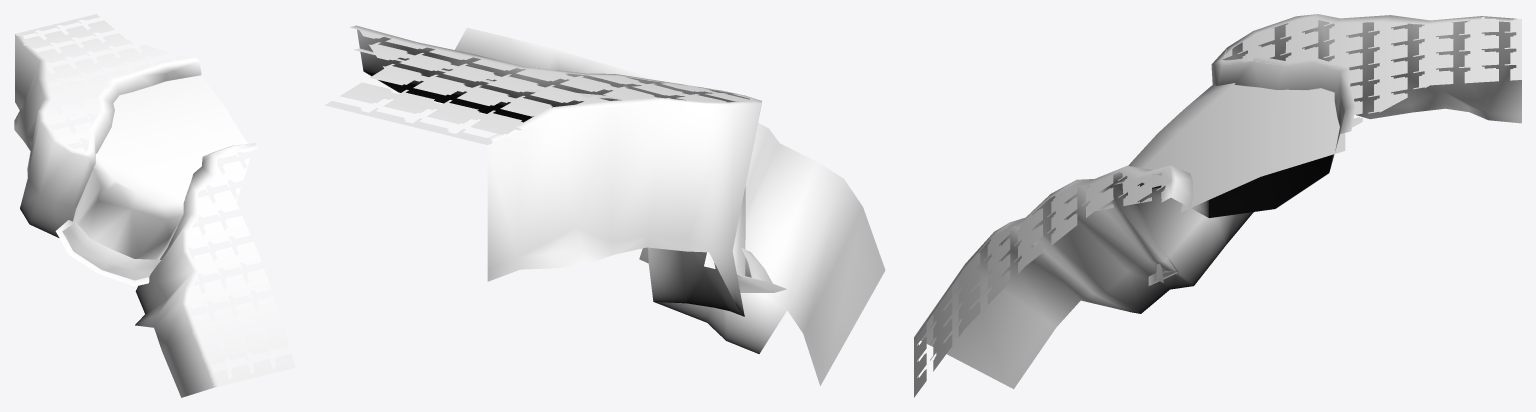
File: grd_Ee_R_0.dae
The picture shows the model from 3 angles, left to right: view 1: azimuth 30°, elevation 25°; view 2: azimuth 150°, elevation 25°; view 3: azimuth 270°, elevation 25°; orthographic projection. The views are drawn at different scales.
Visible parts, largest first — view 1: grd_Ee_R_0; view 2: grd_Ee_R_0; view 3: grd_Ee_R_0.
Boxes of the visible parts, box(x1,y1,x2,y2) form: grd_Ee_R_0: box(14, 14, 295, 397); grd_Ee_R_0: box(325, 25, 885, 385); grd_Ee_R_0: box(914, 14, 1521, 397).
Bounding box in the file's own units: 272 × 340 × 507.
6 materials, 1 textured.
